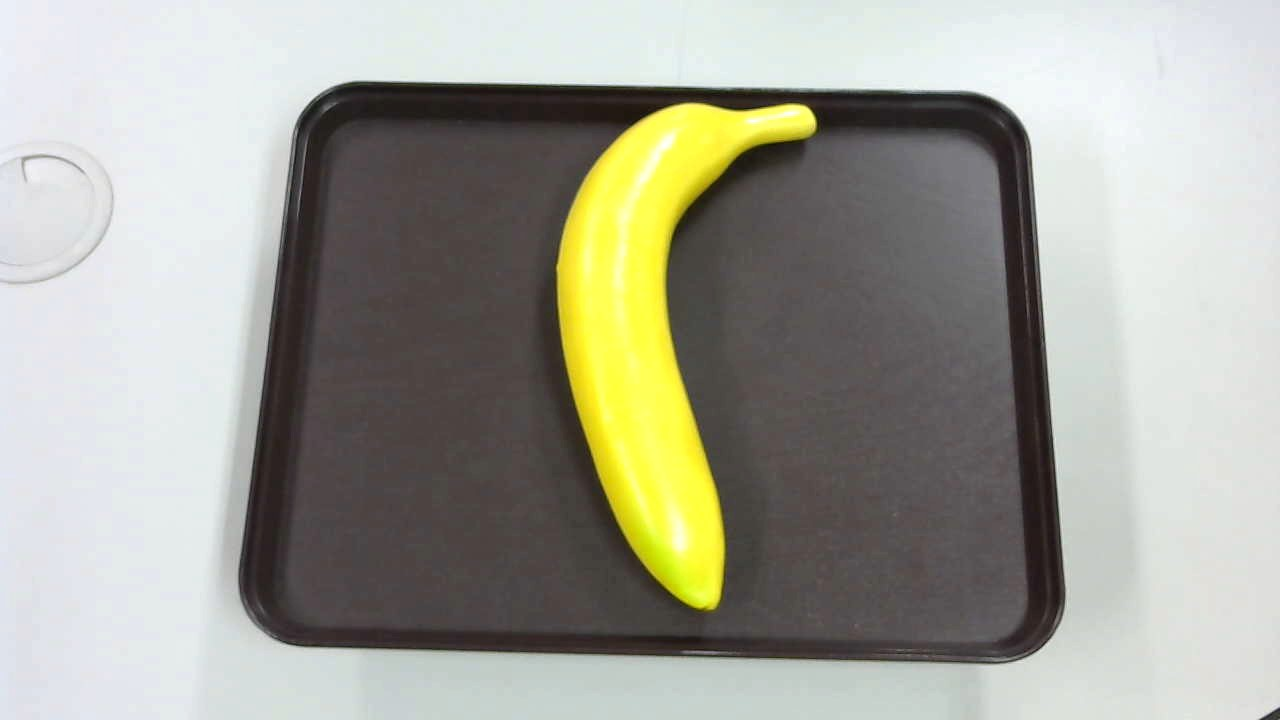banana: (544, 95, 822, 612)
